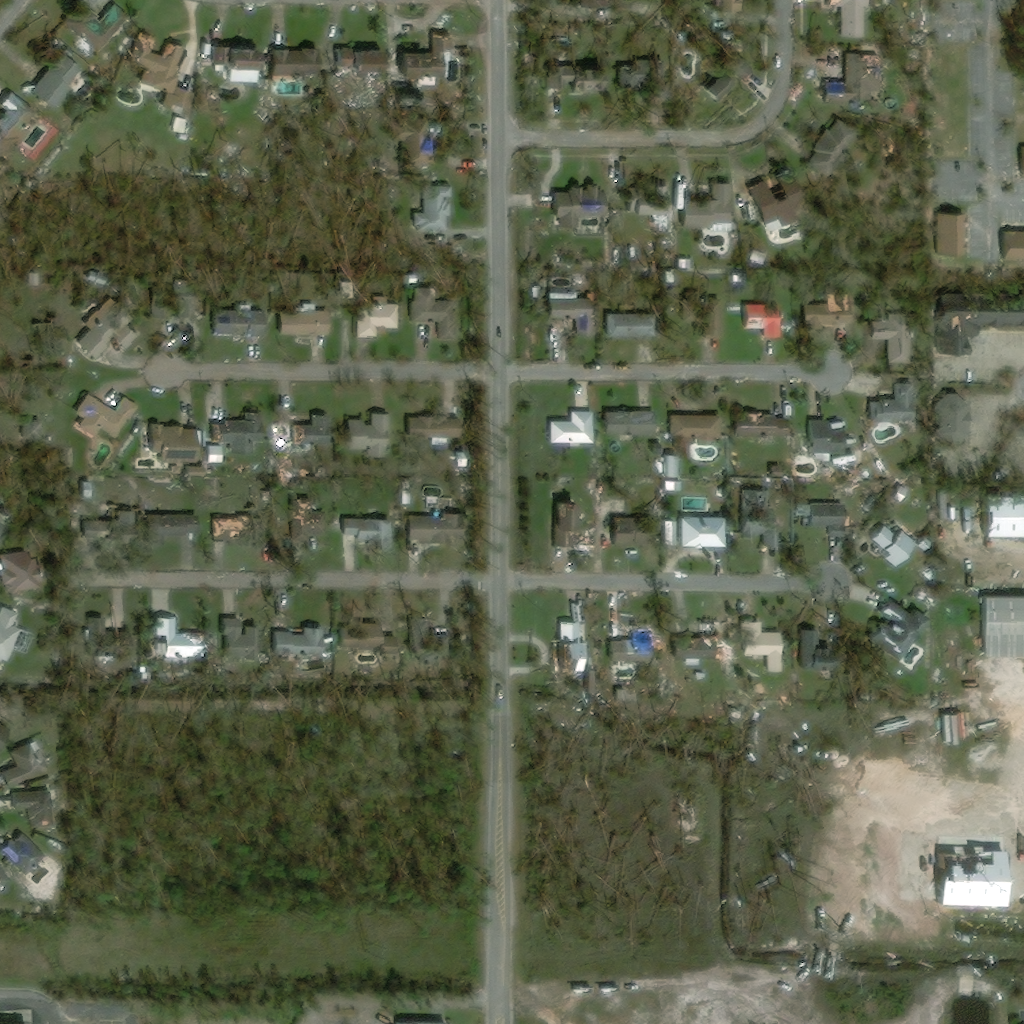destroyed: (577, 536, 593, 546)
major_damage: (113, 32, 191, 115), (934, 848, 1007, 907), (820, 54, 875, 110), (275, 415, 328, 451), (672, 621, 715, 665), (549, 623, 585, 672), (607, 624, 647, 668), (211, 519, 259, 553), (290, 500, 324, 535), (554, 503, 576, 547)
minor_damage: (934, 295, 1023, 359), (865, 597, 929, 663), (73, 391, 138, 442), (59, 0, 124, 51), (391, 118, 439, 174), (550, 186, 600, 233), (548, 293, 596, 339), (0, 832, 46, 880), (0, 89, 36, 149), (209, 413, 262, 453), (156, 618, 198, 657), (10, 791, 52, 830), (211, 305, 262, 337), (145, 514, 194, 547), (805, 294, 852, 324), (739, 305, 779, 340), (732, 413, 787, 437), (611, 518, 656, 547), (80, 521, 133, 543), (587, 0, 628, 18), (432, 33, 454, 46)
no_damage: (74, 295, 138, 361), (30, 45, 80, 111), (748, 174, 802, 229), (697, 53, 756, 102), (681, 184, 733, 238), (978, 597, 1023, 657), (869, 519, 919, 570), (1, 739, 48, 789), (141, 424, 201, 463), (739, 621, 781, 674), (931, 393, 968, 453), (630, 184, 678, 230), (741, 489, 778, 546), (406, 510, 461, 548), (973, 496, 1023, 537), (272, 301, 328, 337), (679, 293, 721, 341), (869, 315, 909, 365), (411, 183, 451, 233), (868, 382, 915, 424), (806, 414, 846, 462), (344, 415, 389, 457), (354, 296, 400, 337), (823, 0, 869, 41), (209, 47, 259, 83), (278, 627, 337, 657), (813, 122, 860, 159), (221, 618, 257, 664), (154, 282, 196, 319), (803, 505, 850, 538), (932, 211, 966, 256), (411, 287, 452, 324), (670, 415, 720, 445), (545, 66, 596, 95), (679, 518, 722, 552), (346, 520, 393, 550), (0, 607, 25, 663), (550, 413, 593, 445), (408, 416, 454, 445), (633, 61, 663, 102), (604, 410, 654, 434), (602, 314, 642, 340), (267, 49, 302, 76), (799, 630, 817, 671), (999, 231, 1023, 260), (703, 0, 748, 13), (174, 56, 196, 82), (166, 116, 187, 134), (664, 520, 678, 546), (666, 455, 681, 478), (205, 445, 222, 464), (891, 486, 908, 503), (610, 501, 629, 515), (183, 466, 206, 477), (0, 866, 11, 887), (1016, 146, 1023, 178), (652, 437, 665, 454), (956, 504, 967, 523), (341, 282, 353, 298), (755, 252, 770, 264), (81, 481, 92, 496), (667, 483, 685, 492), (209, 633, 217, 653), (0, 725, 8, 745), (403, 490, 411, 506), (678, 258, 692, 267), (851, 472, 867, 479), (734, 275, 743, 282)
